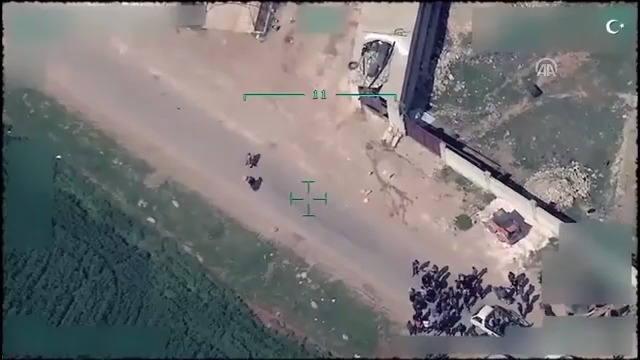arac: (468, 300, 528, 334)
insan: (240, 150, 260, 167), (405, 320, 420, 338), (409, 257, 421, 278)
